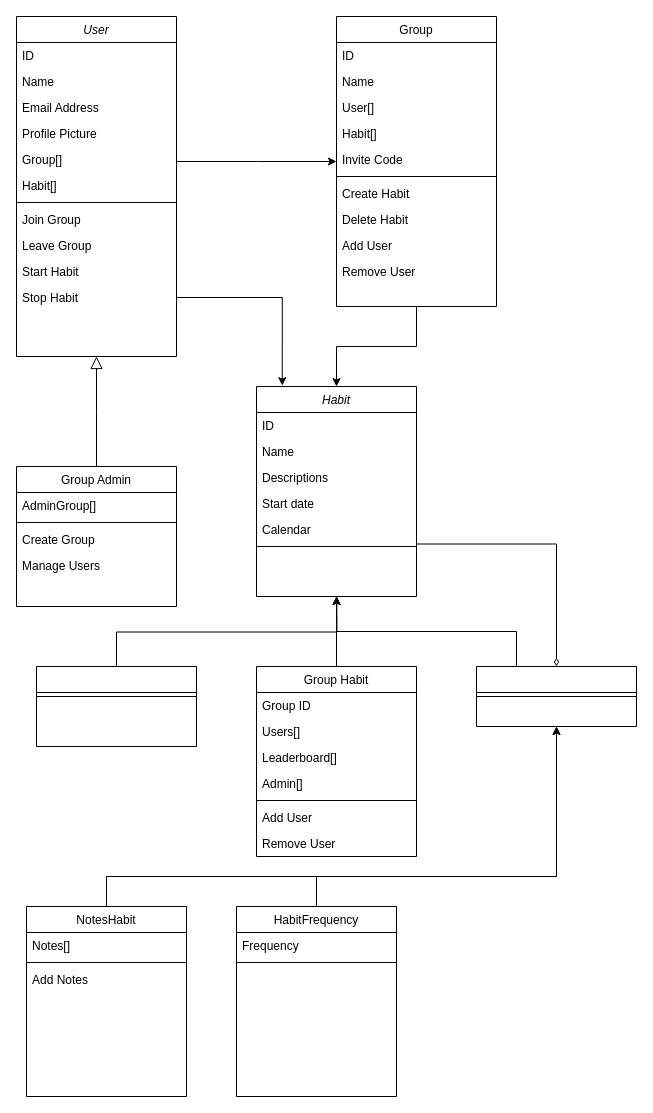
Image size: 653x1113. Some labels were removed from this diagram. The shapes that lost their labels are listed below. From the top down, each one's centre as x and y in pixels, then its label:
At point 116,706: "Individual Habit".
At point 556,696: "HabitDecorator".
